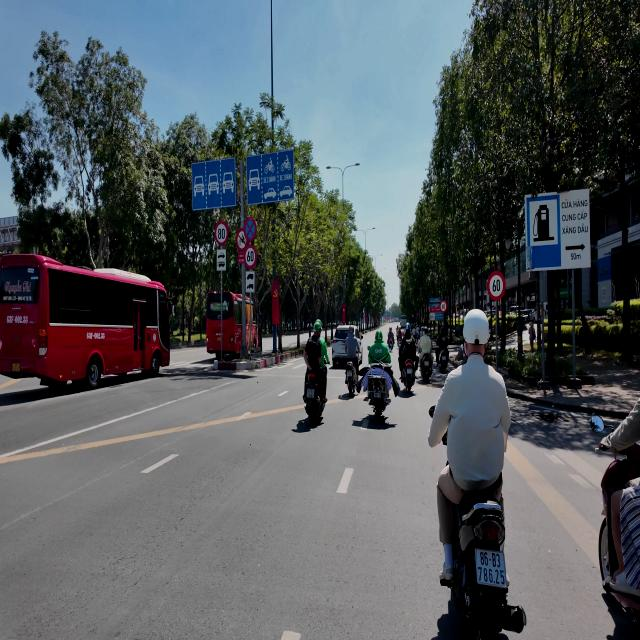car: (332, 325, 362, 366)
motorcycle: (442, 492, 526, 639), (599, 444, 639, 626), (367, 366, 389, 421), (306, 371, 324, 425), (346, 360, 357, 397), (420, 353, 432, 381), (404, 359, 414, 392), (439, 349, 448, 373), (387, 337, 394, 352)
